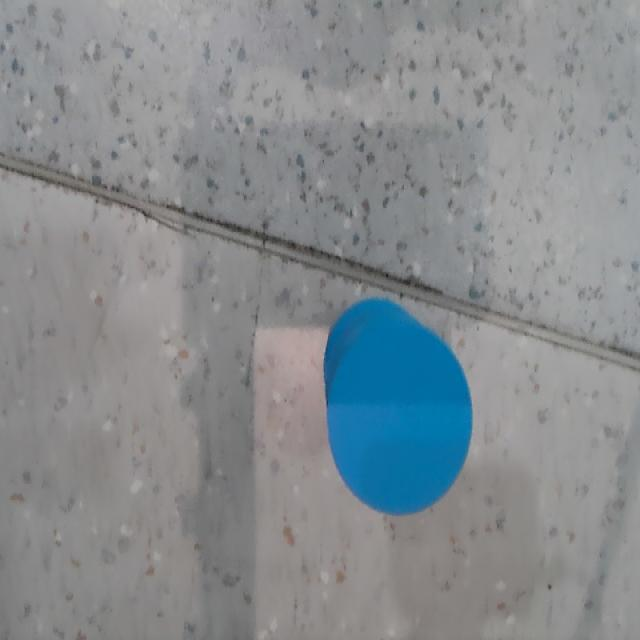b: (327, 324, 473, 518)
